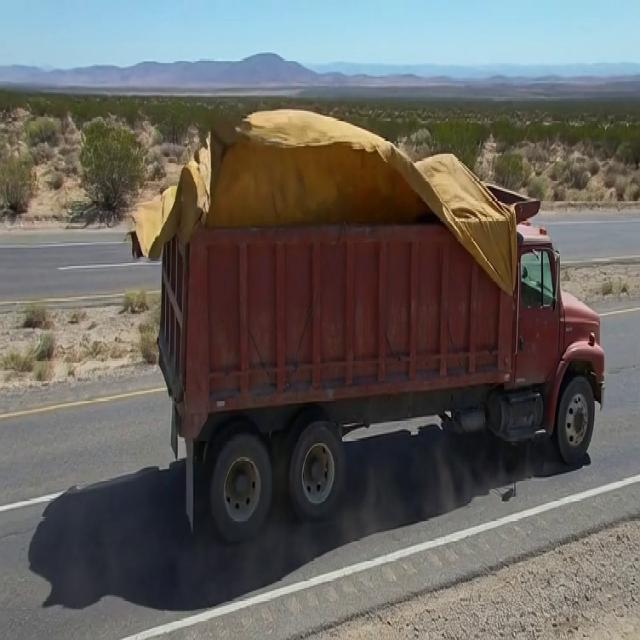trailer: (162, 122, 544, 261)
truck: (145, 106, 613, 540)
